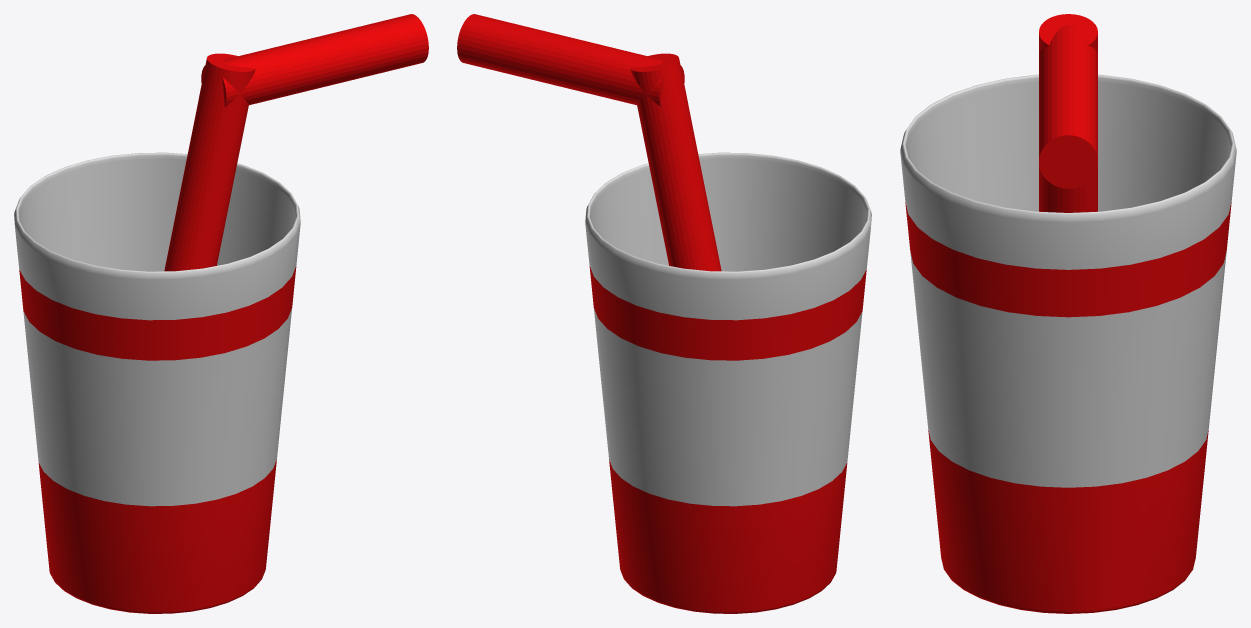
The model's file is CupV2.fbx.
3 views of the same model, side by side, from view 1: azimuth 30°, elevation 25°; view 2: azimuth 150°, elevation 25°; view 3: azimuth 270°, elevation 25° (orthographic). The views are drawn at different scales.
Parts seen in each view (by area): view 1: Circle, Tube1, Tube2; view 2: Circle, Tube1, Tube2; view 3: Circle, Tube2, Tube1.
Part boxes in pixels (<box>): Circle: <box>14,152,300,613</box>; Tube1: <box>164,53,255,271</box>; Tube2: <box>201,14,428,106</box>; Circle: <box>585,152,871,613</box>; Tube1: <box>630,53,721,271</box>; Tube2: <box>457,14,684,106</box>; Circle: <box>900,74,1236,613</box>; Tube2: <box>1039,25,1097,188</box>; Tube1: <box>1039,14,1097,212</box>.
Bounding box in the file's own units: 7.29 × 8.97 × 4.73.
